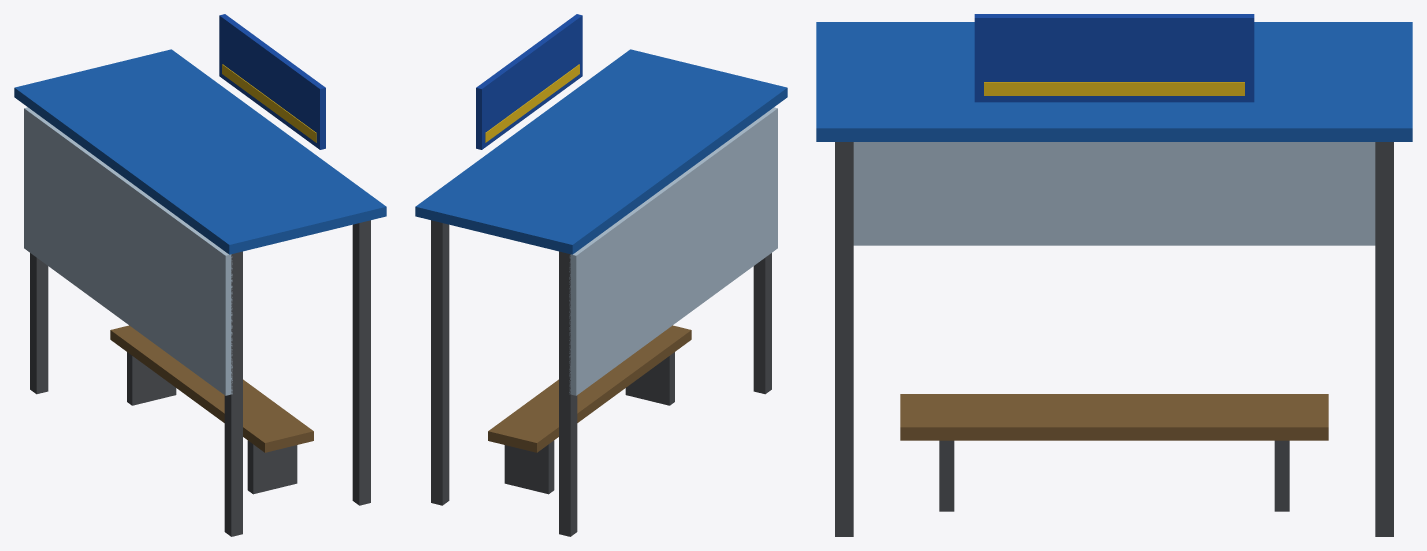
File: bus_stop_shelter_mh.glb
3 views of the same model, side by side, from view 1: azimuth 30°, elevation 25°; view 2: azimuth 150°, elevation 25°; view 3: azimuth 270°, elevation 25° (orthographic). The views are drawn at different scales.
Visible parts, largest first — view 1: _MeshInstance3D_18, _MeshInstance3D_19, _MeshInstance3D_23, _MeshInstance3D_20, _MeshInstance3D_16, _MeshInstance3D_17, _MeshInstance3D_15, _MeshInstance3D_22, _MeshInstance3D_21, _MeshInstance3D_24; view 2: _MeshInstance3D_18, _MeshInstance3D_19, _MeshInstance3D_23, _MeshInstance3D_20, _MeshInstance3D_14, _MeshInstance3D_15, _MeshInstance3D_17, _MeshInstance3D_21, _MeshInstance3D_22, _MeshInstance3D_24; view 3: _MeshInstance3D_19, _MeshInstance3D_18, _MeshInstance3D_23, _MeshInstance3D_20, _MeshInstance3D_14, _MeshInstance3D_16, _MeshInstance3D_24, _MeshInstance3D_21, _MeshInstance3D_22.
Part boxes in pixels (bbox=[...]): _MeshInstance3D_18: bbox=[14, 49, 386, 254]; _MeshInstance3D_19: bbox=[24, 107, 232, 395]; _MeshInstance3D_23: bbox=[219, 14, 325, 149]; _MeshInstance3D_20: bbox=[110, 325, 313, 452]; _MeshInstance3D_16: bbox=[352, 220, 370, 505]; _MeshInstance3D_17: bbox=[224, 251, 242, 536]; _MeshInstance3D_15: bbox=[30, 253, 48, 394]; _MeshInstance3D_22: bbox=[247, 440, 297, 494]; _MeshInstance3D_21: bbox=[127, 352, 176, 405]; _MeshInstance3D_24: bbox=[222, 64, 316, 142]; _MeshInstance3D_18: bbox=[415, 49, 787, 254]; _MeshInstance3D_19: bbox=[569, 107, 777, 395]; _MeshInstance3D_23: bbox=[476, 14, 582, 149]; _MeshInstance3D_20: bbox=[488, 325, 691, 452]; _MeshInstance3D_14: bbox=[431, 220, 449, 505]; _MeshInstance3D_15: bbox=[559, 251, 577, 536]; _MeshInstance3D_17: bbox=[753, 253, 771, 394]; _MeshInstance3D_21: bbox=[504, 440, 554, 494]; _MeshInstance3D_22: bbox=[625, 352, 674, 405]; _MeshInstance3D_24: bbox=[485, 64, 579, 142]; _MeshInstance3D_19: bbox=[853, 142, 1375, 245]; _MeshInstance3D_18: bbox=[816, 22, 1412, 141]; _MeshInstance3D_23: bbox=[974, 14, 1254, 102]; _MeshInstance3D_20: bbox=[900, 394, 1328, 440]; _MeshInstance3D_14: bbox=[1375, 142, 1393, 536]; _MeshInstance3D_16: bbox=[835, 142, 853, 536]; _MeshInstance3D_24: bbox=[984, 82, 1244, 95]; _MeshInstance3D_21: bbox=[1274, 440, 1289, 511]; _MeshInstance3D_22: bbox=[939, 440, 954, 511].
Size of the model in its own units: 1.35 by 3.09 by 3.2.
